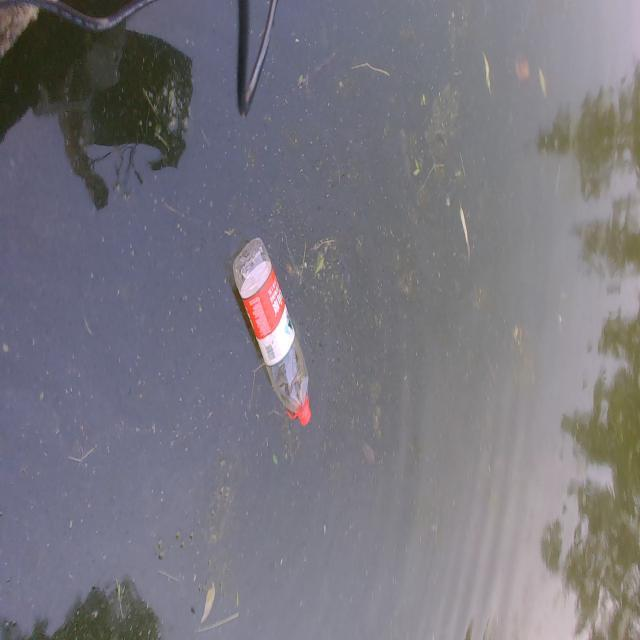garbage: (232, 236, 312, 426)
